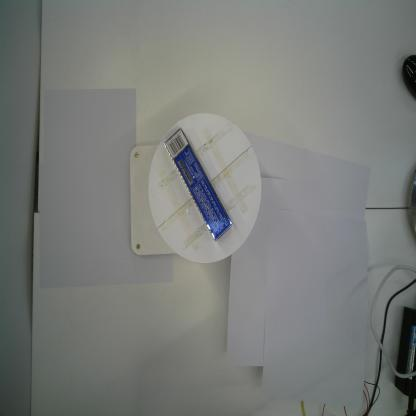Personal Hygiene: (164, 127, 233, 245)
